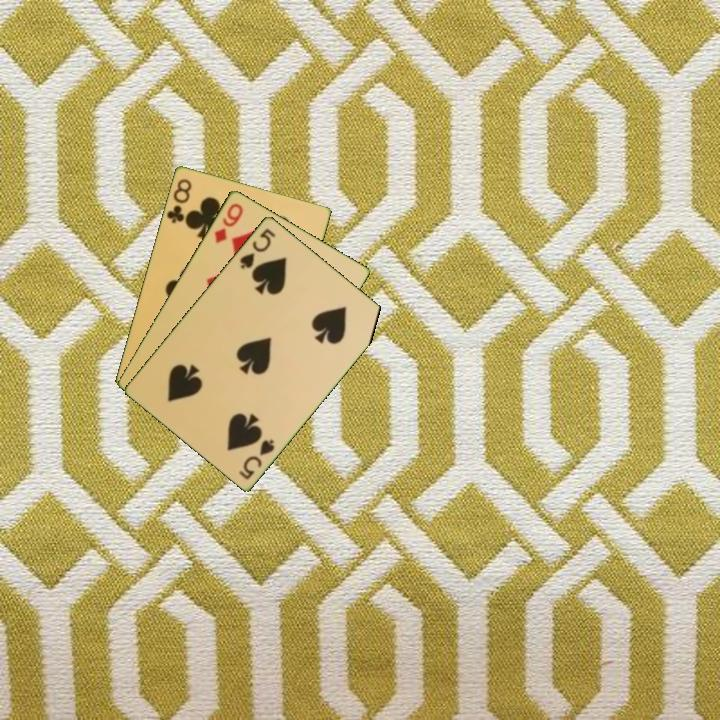5s: (236, 224, 279, 272), (235, 435, 277, 482)
8c: (163, 175, 194, 226)
9d: (210, 199, 246, 246)
